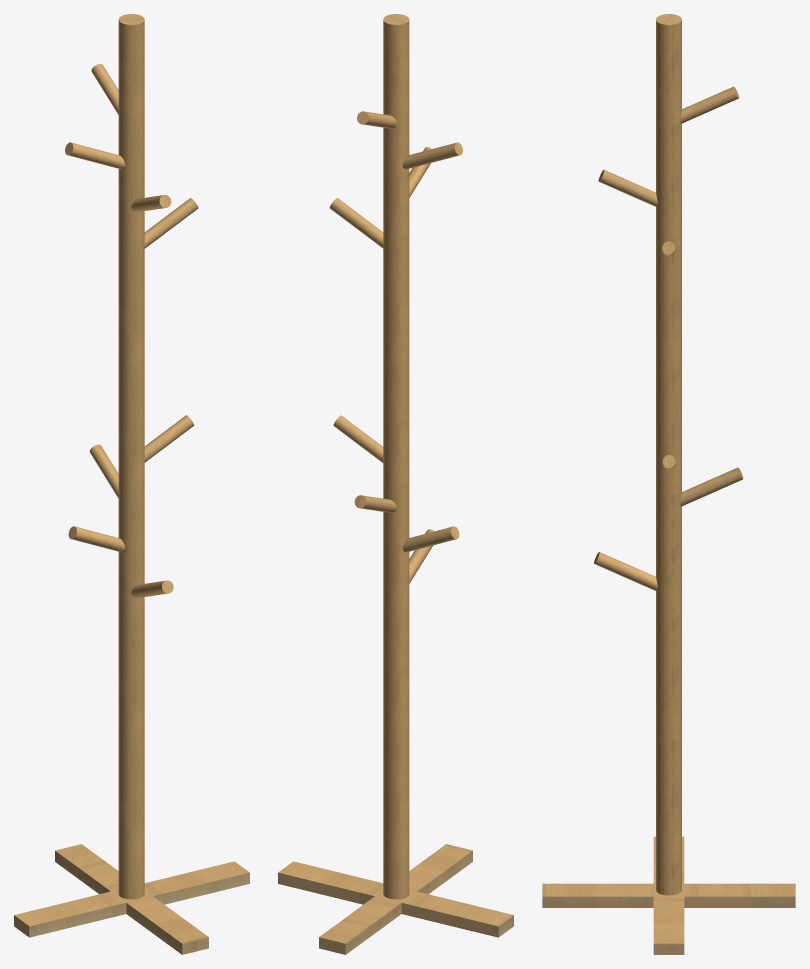
The model's file is coat_rack.glb.
3 views of the same model, side by side, from view 1: azimuth 30°, elevation 25°; view 2: azimuth 150°, elevation 25°; view 3: azimuth 270°, elevation 25° (orthographic).
Visible parts, largest first — view 1: cloth rack.001; view 2: cloth rack.001; view 3: cloth rack.001.
Boxes of the visible parts, left/top/right/bottom form: cloth rack.001: left=14, top=14, right=249, bottom=954; cloth rack.001: left=278, top=14, right=513, bottom=954; cloth rack.001: left=542, top=14, right=795, bottom=954.
Bounding box in the file's own units: 0.4141 × 1.59 × 0.4141.
1 material, 1 textured.
